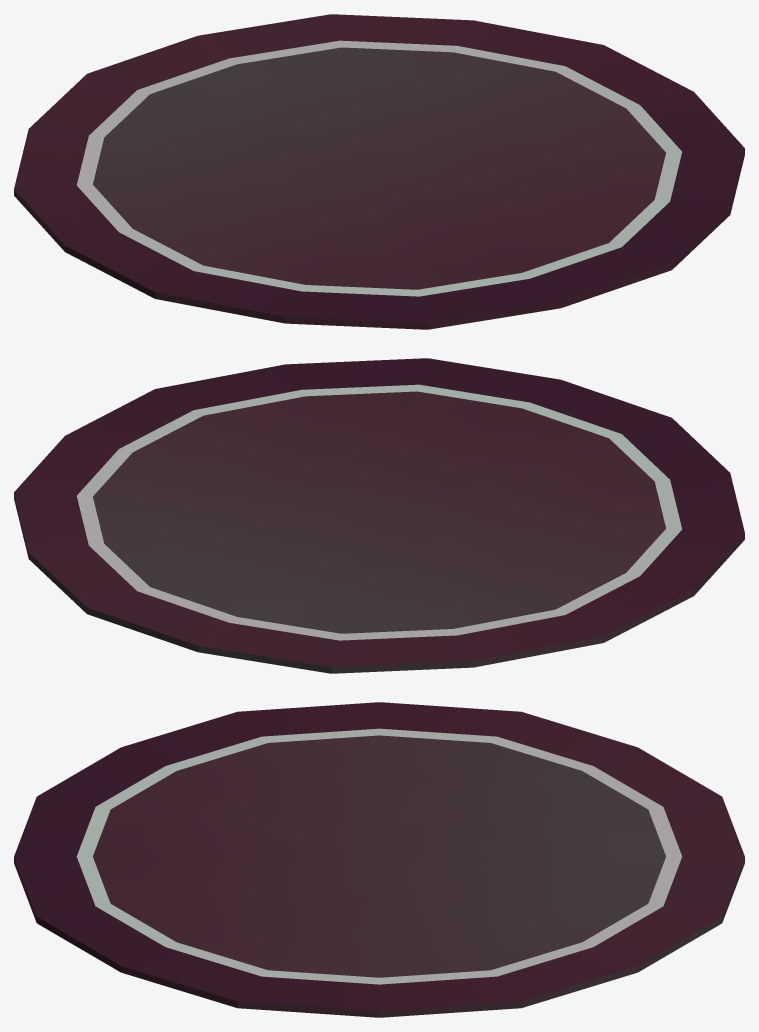
Rendered from Prop_Rug_Purple.fbx.
The picture shows the model from 3 angles, top to bottom: view 1: azimuth 30°, elevation 25°; view 2: azimuth 150°, elevation 25°; view 3: azimuth 270°, elevation 25°; orthographic projection.
Visible parts, largest first — view 1: Rug; view 2: Rug; view 3: Rug.
Part boxes in pixels (box(x1,y1,x2,y2)): Rug: box(14, 14, 744, 329); Rug: box(14, 358, 744, 673); Rug: box(14, 702, 744, 1017).
Bounding box in the file's own units: 130 × 1.32 × 130.
